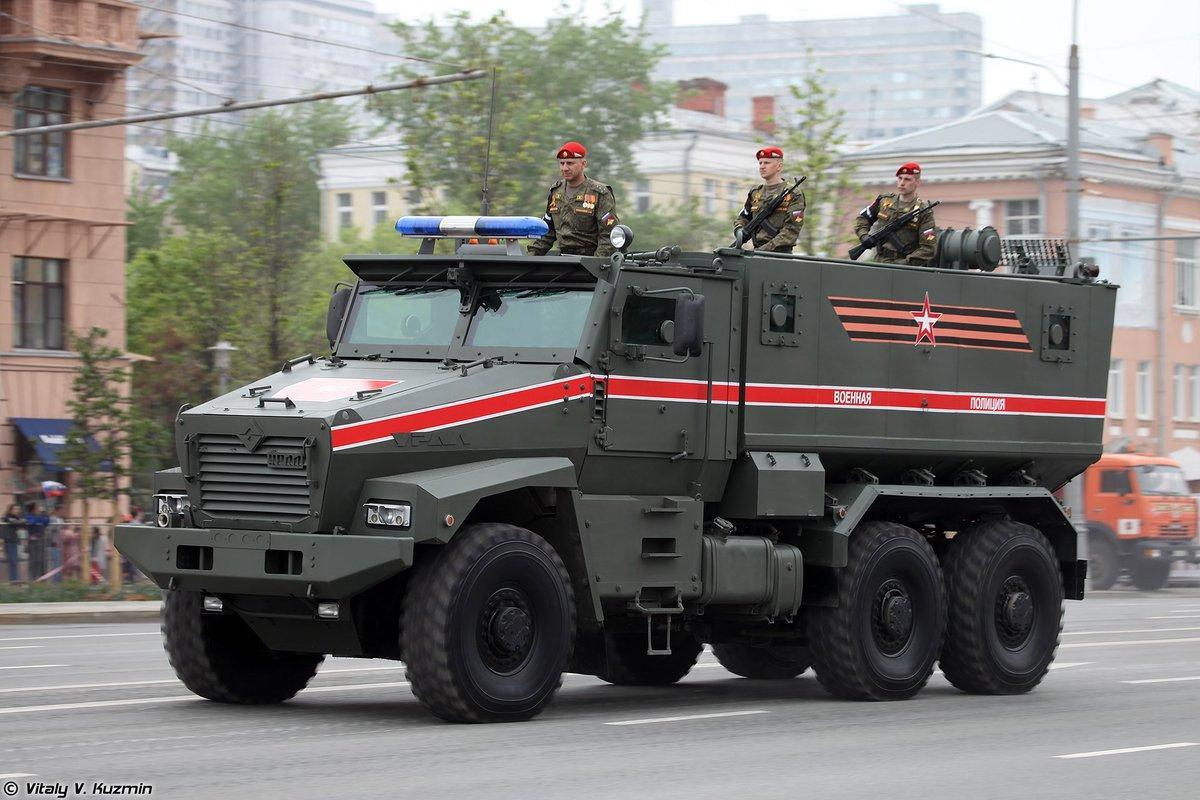truck: (134, 116, 1121, 716)
